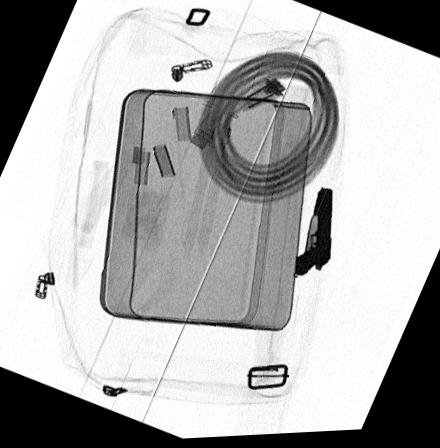Bullet: (303, 194, 320, 255)
Gun: (295, 191, 332, 280)
